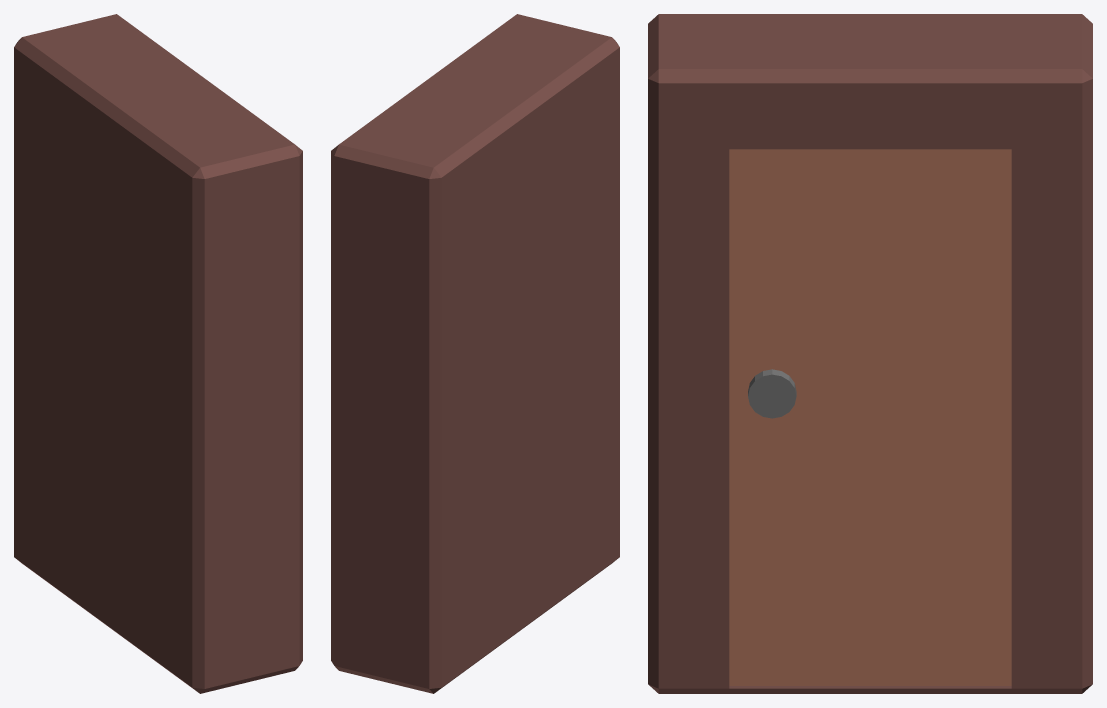
Rendered from door.fbx.
3 renders of one model, left to right at view 1: azimuth 30°, elevation 25°; view 2: azimuth 150°, elevation 25°; view 3: azimuth 270°, elevation 25°, orthographic. The views are drawn at different scales.
Visible parts, largest first — view 1: Cube; view 2: Cube; view 3: Cube, Cube.001, Cylinder.
Boxes of the visible parts, x1,y1,x2,y2 form: Cube: (14,14,302,693); Cube: (331,14,619,693); Cube: (648,14,1092,693); Cube.001: (729,149,1011,685); Cylinder: (748,369,796,418).
Bounding box in the file's own units: 587 × 910 × 226.
